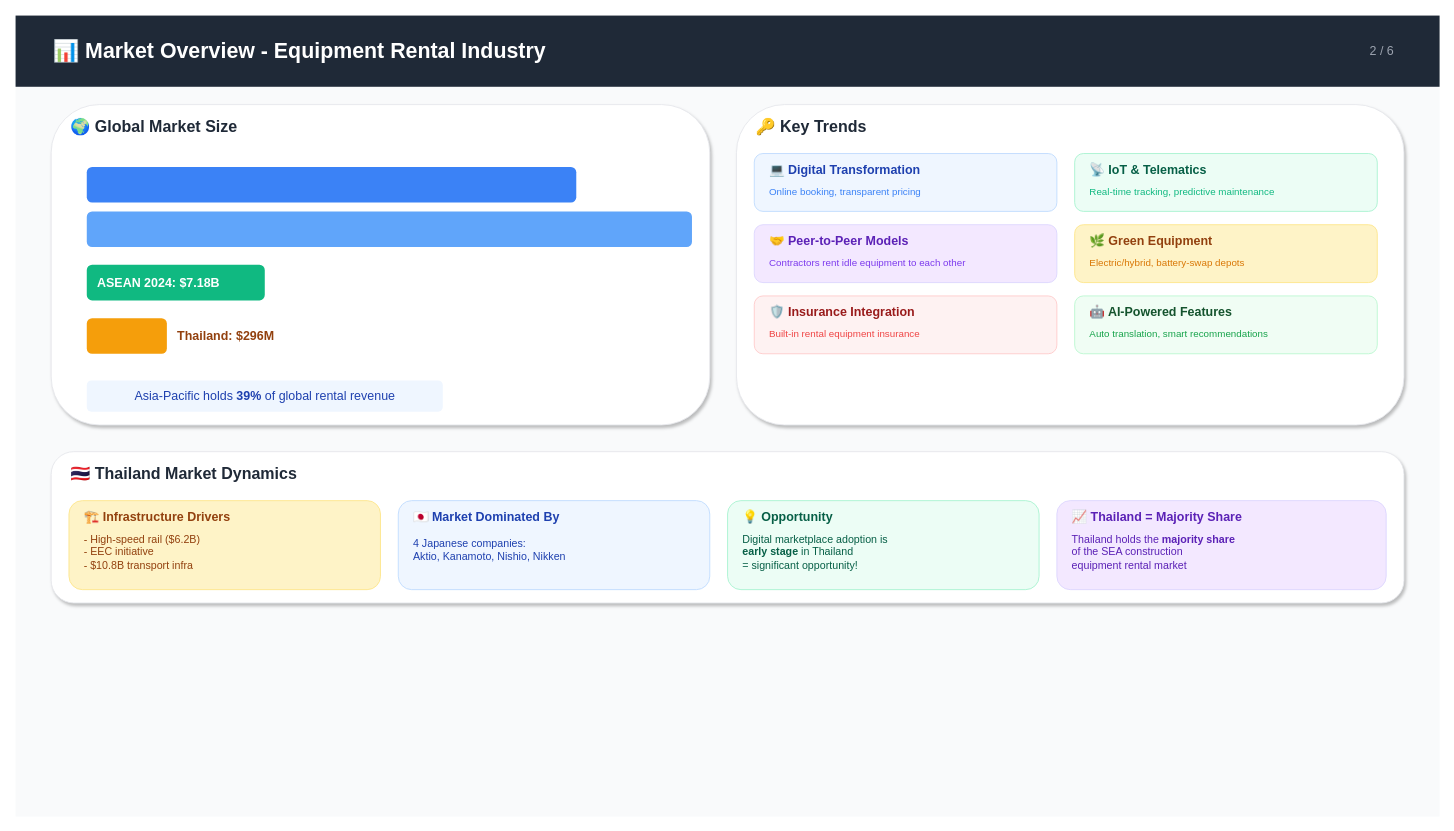
Some shapes in this 1454 by 831 pixel diagram are drawn without their labels. The shapes that lost their labels are listed below. From the top down, each one's centre as x and y in pixels, then its label:
At (331,184): "Global 2025: $204B".
At (389,229): "Global 2030 (projected): $280B".
